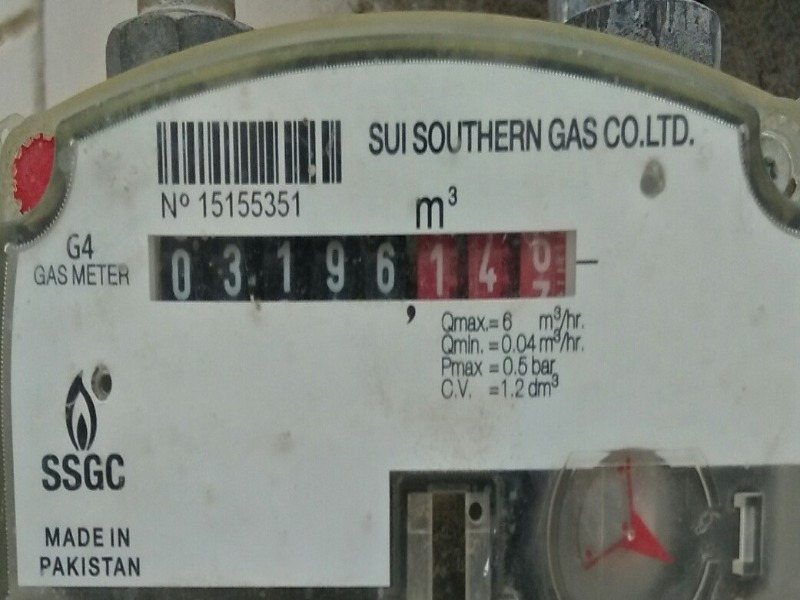ssgc: (144, 228, 578, 305)
